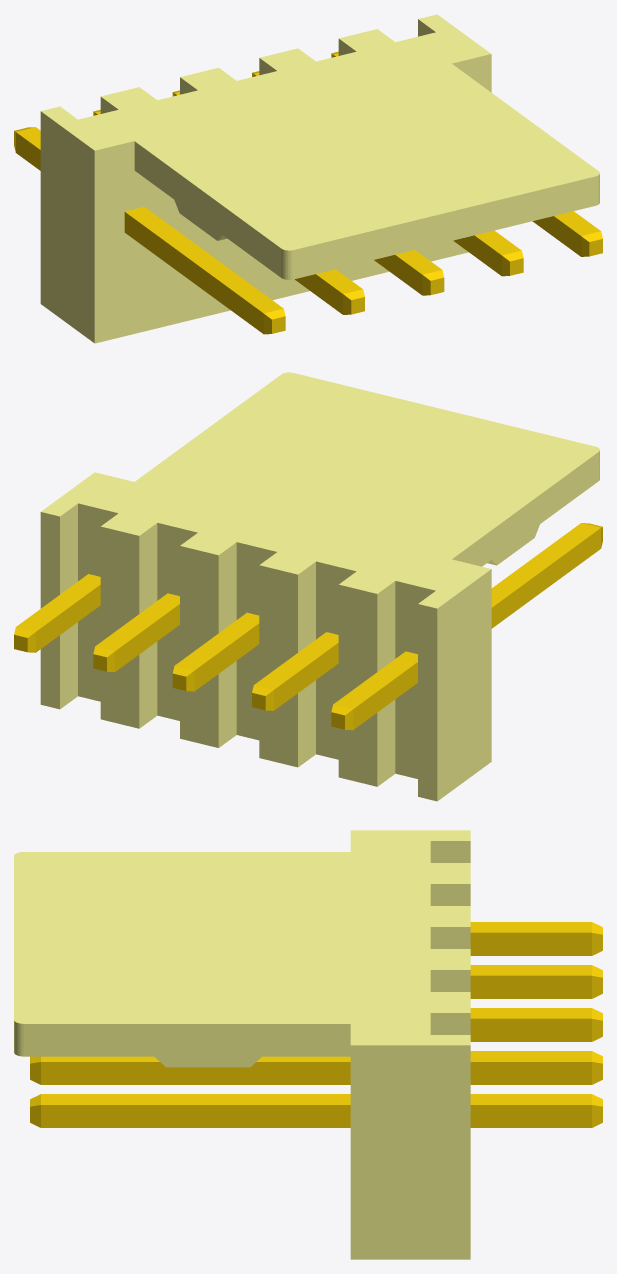
The model's file is DS1070-5 (WF-5 CONNFLY).obj.
3 views of the same model, one above another, from view 1: azimuth 30°, elevation 25°; view 2: azimuth 150°, elevation 25°; view 3: azimuth 270°, elevation 25° (orthographic). The views are drawn at different scales.
Parts seen in each view (by area): view 1: DS1070-5_(WF-5_CONNFLY); view 2: DS1070-5_(WF-5_CONNFLY); view 3: DS1070-5_(WF-5_CONNFLY).
Part boxes in pixels (x1,y1,x2,y2): DS1070-5_(WF-5_CONNFLY): (14, 14, 602, 343); DS1070-5_(WF-5_CONNFLY): (14, 372, 602, 801); DS1070-5_(WF-5_CONNFLY): (14, 830, 602, 1259).
Size of the model in its own units: 0.0216 by 0.01 by 0.025.
